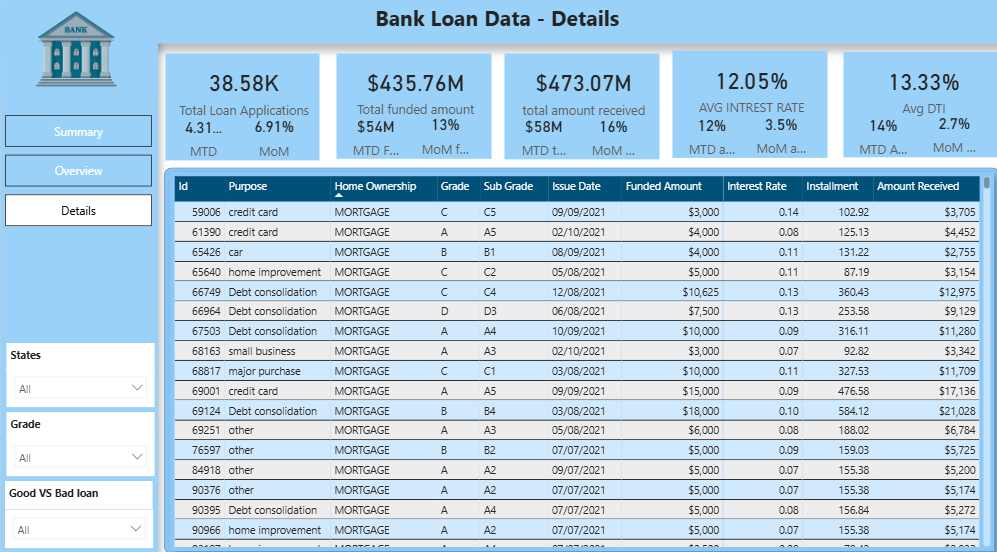

What the dashboard file says about the page in this screenshot:
{"tool":"powerbi","page":{"name":"Details","canvas":[1280,720],"ordinal":2},"visuals":[{"type":"textbox","box":[10,12.9,198.6,698.6],"z":0},{"type":"textbox","box":[856.9,78.8,195.1,135.6],"z":0,"group":"g4"},{"type":"textbox","box":[1071.4,79.2,198.1,132.8],"z":0,"group":"g5"},{"type":"textbox","box":[218.2,81.1,193.7,134.3],"z":0,"group":"g1"},{"type":"textbox","box":[643.8,81.6,195.1,133.5],"z":0,"group":"g2"},{"type":"textbox","box":[431.8,81.8,195.1,132.4],"z":0,"group":"g3"},{"type":"card","fields":{"Values":["loan_data.AVG INTREST RATE"]},"box":[858.6,78.2,195.1,93.2],"z":1000,"group":"g4"},{"type":"card","fields":{"Values":["loan_data.Avg DTI"]},"box":[1073.1,78.6,198.1,91.3],"z":1000,"group":"g5"},{"type":"card","fields":{"Values":["loan_data.Total Loan Applications"]},"box":[219.9,80.5,193.7,92.4],"z":1000,"group":"g1"},{"type":"card","fields":{"Values":["loan_data.total amount received"]},"box":[645.5,81,195.1,91.8],"z":1000,"group":"g2"},{"type":"card","fields":{"Values":["loan_data.Total funded amount"]},"box":[433.5,81.2,195.1,91],"z":1000,"group":"g3"},{"type":"shape","box":[215.7,224.3,1052.9,487.1],"z":1000},{"type":"textbox","box":[10,12.8,1258.6,55.6],"z":2000},{"type":"card","fields":{"Values":["loan_data.MTD AVG DTI"]},"box":[1085,150.6,72.8,61.7],"z":2000,"group":"g5"},{"type":"card","fields":{"Values":["loan_data.mtd avg int rate"]},"box":[870.3,151.7,71.7,63],"z":2000,"group":"g4"},{"type":"card","fields":{"Values":["loan_data.MTD Loan Applications"]},"box":[236.7,151.9,57,63.6],"z":2000,"group":"g1"},{"type":"card","fields":{"Values":["loan_data.MTD FUNDED AMOUNT"]},"box":[445.2,153,71.7,61.5],"z":2000,"group":"g3"},{"type":"card","fields":{"Values":["loan_data.MTD total amount receive"]},"box":[657.2,153.4,71.7,62],"z":2000,"group":"g2"},{"type":"group","id":"g1","title":"Group 1","box":[218.2,80.5,197,135.8],"z":3000},{"type":"group","id":"g2","title":"Group 1","box":[643.8,81,197,135],"z":4000},{"type":"card","fields":{"Values":["loan_data.MoM AVG DTI"]},"box":[1173.4,149.2,74.3,61.7],"z":4001,"group":"g5"},{"type":"card","fields":{"Values":["loan_data.Mom avd int rate"]},"box":[957.3,150.2,73.2,63],"z":4001,"group":"g4"},{"type":"card","fields":{"Values":["loan_data.Mom funded amount"]},"box":[532.2,151.5,73.2,61.5],"z":4001,"group":"g3"},{"type":"card","fields":{"Values":["loan_data.MoM"]},"box":[317.9,151.9,72.6,62.4],"z":4001,"group":"g1"},{"type":"card","fields":{"Values":["loan_data.Mom Amount receive"]},"box":[744.2,151.9,73.2,62],"z":4001,"group":"g2"},{"type":"group","id":"g3","title":"Group 1","box":[431.8,81.2,197,135],"z":5000},{"type":"group","id":"g4","title":"Group 1","box":[856.9,78.2,197,135.8],"z":6000},{"type":"group","id":"g5","title":"Group 1","box":[1071.4,78.6,200,134.3],"z":7000},{"type":"slicer","fields":{"Values":["loan_data.address_state"]},"box":[17.1,477.9,186.7,48.3],"z":8000},{"type":"textbox","box":[16.9,445.8,186.6,35.7],"z":9000},{"type":"slicer","fields":{"Values":["loan_data.grade"]},"box":[17.1,565.7,186.7,48.3],"z":10000},{"type":"textbox","box":[17.1,532.4,186.7,36.7],"z":11000},{"type":"slicer","fields":{"Values":["loan_data.GOOD VS BAD LOAN"]},"box":[15.8,654.9,186.7,48.3],"z":12000},{"type":"textbox","box":[15.8,619.9,186,35],"z":13000},{"type":"tableEx","fields":{"Values":["loan_data.id","loan_data.purpose","loan_data.home_ownership","loan_data.grade","loan_data.sub_grade","loan_data.issue_date","loan_data.Total funded amount","Sum(loan_data.int_rate)","Sum(loan_data.installment)","loan_data.total amount received"]},"box":[222.9,230,1038.6,477.1],"z":15000},{"type":"image","box":[10,12.9,198.6,121.4],"z":15001},{"type":"pageNavigator","box":[15.7,158.6,185.7,141.4],"z":15002}]}

Visuals, with their boxes in screenshot pixels (x1, y1, x2, y2), scaled from the page's 1280x720 canvas onto the 997x552 screenshot:
textbox: 8 10 162 545
textbox: 667 60 819 164
textbox: 835 61 989 163
textbox: 170 62 321 165
textbox: 501 63 653 165
textbox: 336 63 488 164
card - loan_data.AVG INTREST RATE: 669 60 821 131
card - loan_data.Avg DTI: 836 60 990 130
card - loan_data.Total Loan Applications: 171 62 322 133
card - loan_data.total amount received: 503 62 655 132
card - loan_data.Total funded amount: 338 62 490 132
shape: 168 172 988 545
textbox: 8 10 988 52
card - loan_data.MTD AVG DTI: 845 115 902 163
card - loan_data.mtd avg int rate: 678 116 734 165
card - loan_data.MTD Loan Applications: 184 116 229 165
card - loan_data.MTD FUNDED AMOUNT: 347 117 403 164
card - loan_data.MTD total amount receive: 512 118 568 165
"Group 1" group: 170 62 323 166
"Group 1" group: 501 62 655 166
card - loan_data.MoM AVG DTI: 914 114 972 162
card - loan_data.Mom avd int rate: 746 115 803 163
card - loan_data.Mom funded amount: 415 116 472 163
card - loan_data.MoM: 248 116 304 164
card - loan_data.Mom Amount receive: 580 116 637 164
"Group 1" group: 336 62 490 166
"Group 1" group: 667 60 821 164
"Group 1" group: 835 60 990 163
slicer - loan_data.address_state: 13 366 159 403
textbox: 13 342 159 369
slicer - loan_data.grade: 13 434 159 471
textbox: 13 408 159 436
slicer - loan_data.GOOD VS BAD LOAN: 12 502 158 539
textbox: 12 475 157 502
tableEx - loan_data.id x loan_data.purpose: 174 176 983 542
image: 8 10 162 103
pageNavigator: 12 122 157 230
